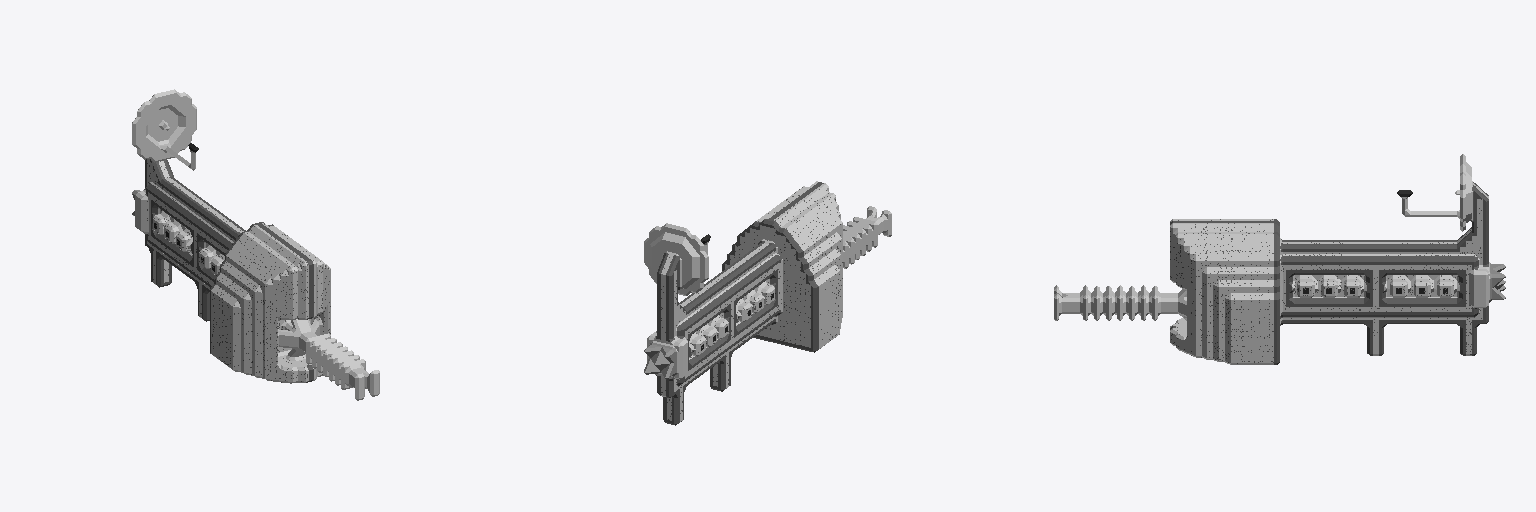
3 views of the same model, side by side, from view 1: azimuth 30°, elevation 25°; view 2: azimuth 150°, elevation 25°; view 3: azimuth 270°, elevation 25° (orthographic).
Size of the model in its own units: 19 by 37 by 78.
1 materials, 1 textured.